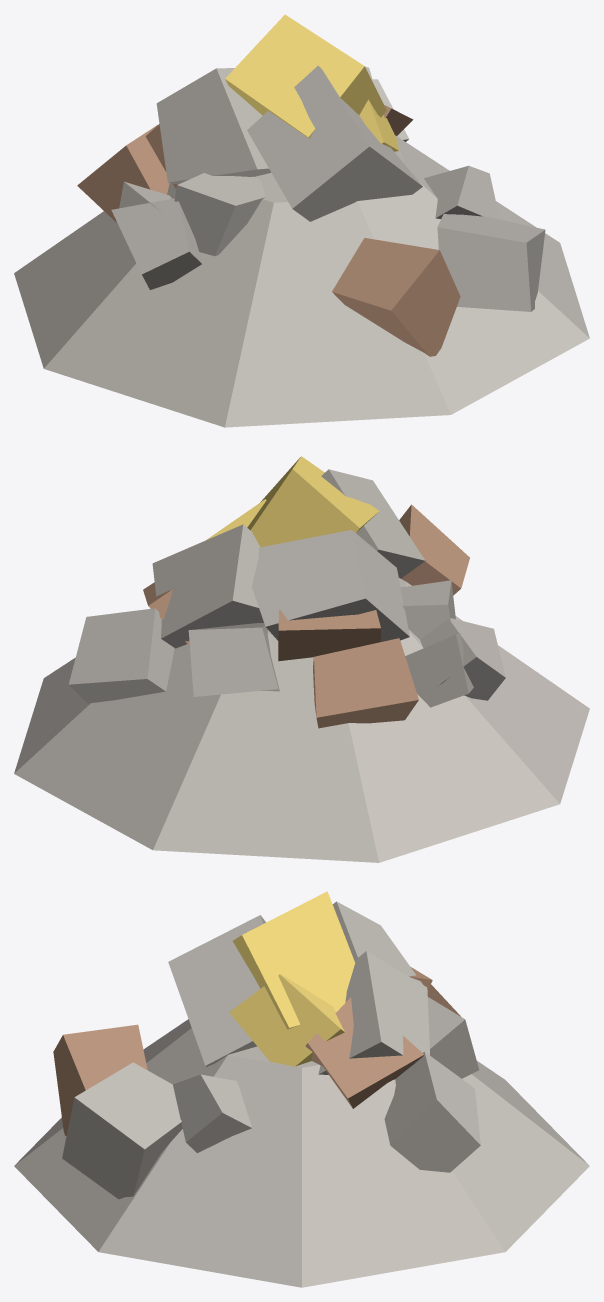
The model's file is SM_Ore_Pile.glb.
The picture shows the model from 3 angles, top to bottom: view 1: azimuth 30°, elevation 25°; view 2: azimuth 150°, elevation 25°; view 3: azimuth 270°, elevation 25°; orthographic projection. The views are drawn at different scales.
Visible parts, largest first — view 1: SM_Ore_Pile; view 2: SM_Ore_Pile; view 3: SM_Ore_Pile.
Part boxes in pixels (x1,y1,x2,y2): SM_Ore_Pile: (14, 14, 589, 427); SM_Ore_Pile: (14, 456, 589, 862); SM_Ore_Pile: (14, 891, 589, 1287).
Size of the model in its own units: 1.1 by 0.5755 by 1.1.
